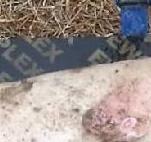text: (111, 108, 144, 139)
